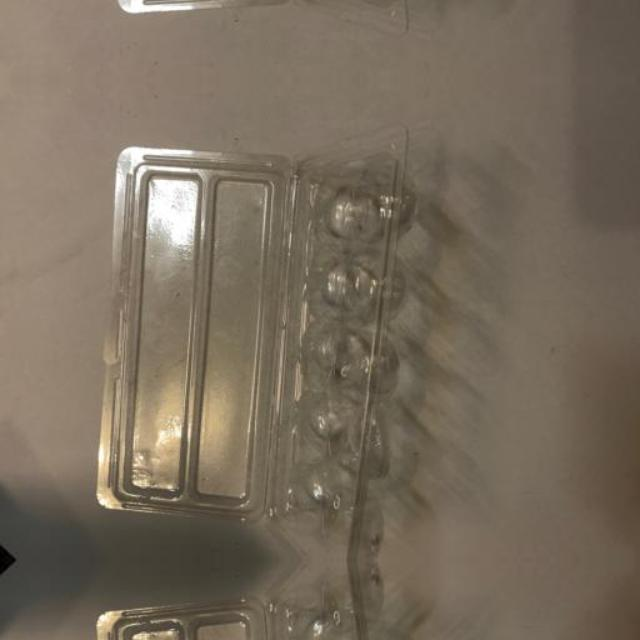Plastic: (86, 139, 438, 537), (85, 583, 438, 640), (85, 0, 438, 21)
